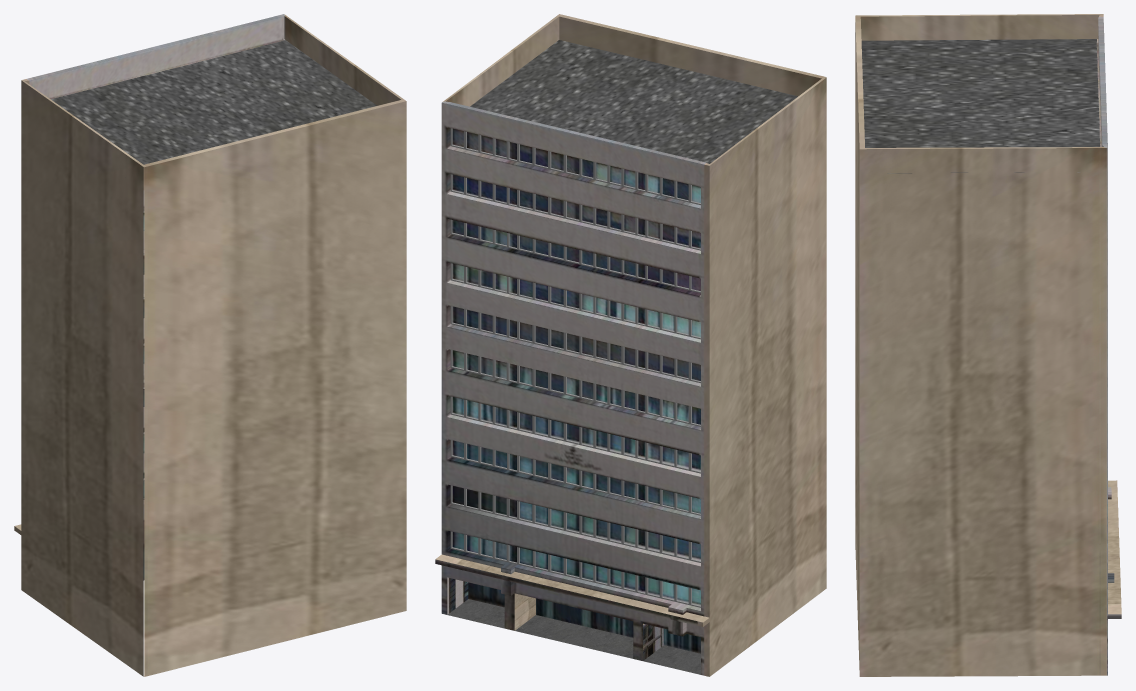
The model's file is building.glb.
3 views of the same model, side by side, from view 1: azimuth 30°, elevation 25°; view 2: azimuth 150°, elevation 25°; view 3: azimuth 270°, elevation 25° (orthographic). The views are drawn at different scales.
Parts seen in each view (by area): view 1: MINISTRY OF FINANCE.001; view 2: MINISTRY OF FINANCE.001; view 3: MINISTRY OF FINANCE.001.
Part boxes in pixels (x1,y1,x2,y2): MINISTRY OF FINANCE.001: [14, 14, 406, 676]; MINISTRY OF FINANCE.001: [435, 14, 826, 676]; MINISTRY OF FINANCE.001: [855, 14, 1121, 676].
Size of the model in its own units: 23.23 by 42.22 by 19.32.
Materials: 4 (3 with a texture image).
